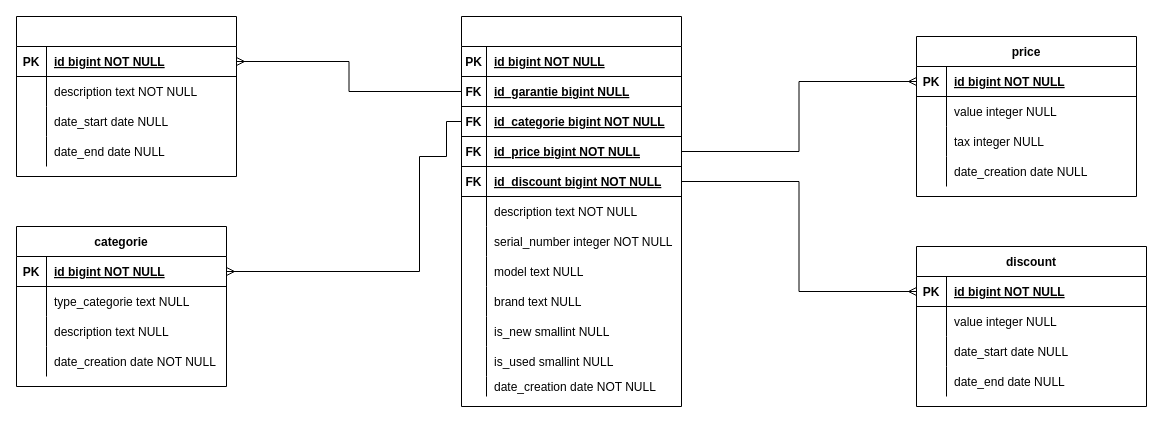
Image size: 1163x423. Some labels were removed from this diagram. The box of each missing label's shape, as (x1, y1, x2, y2) in pixels:
garantie: (16, 16, 236, 176)
product: (460, 16, 682, 406)
